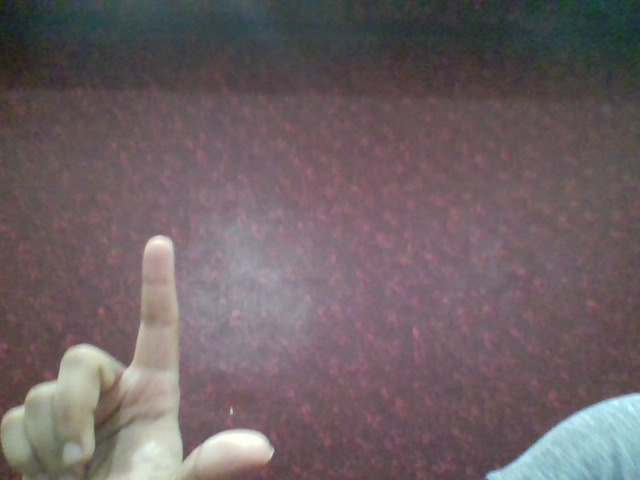l: (2, 226, 290, 480)
